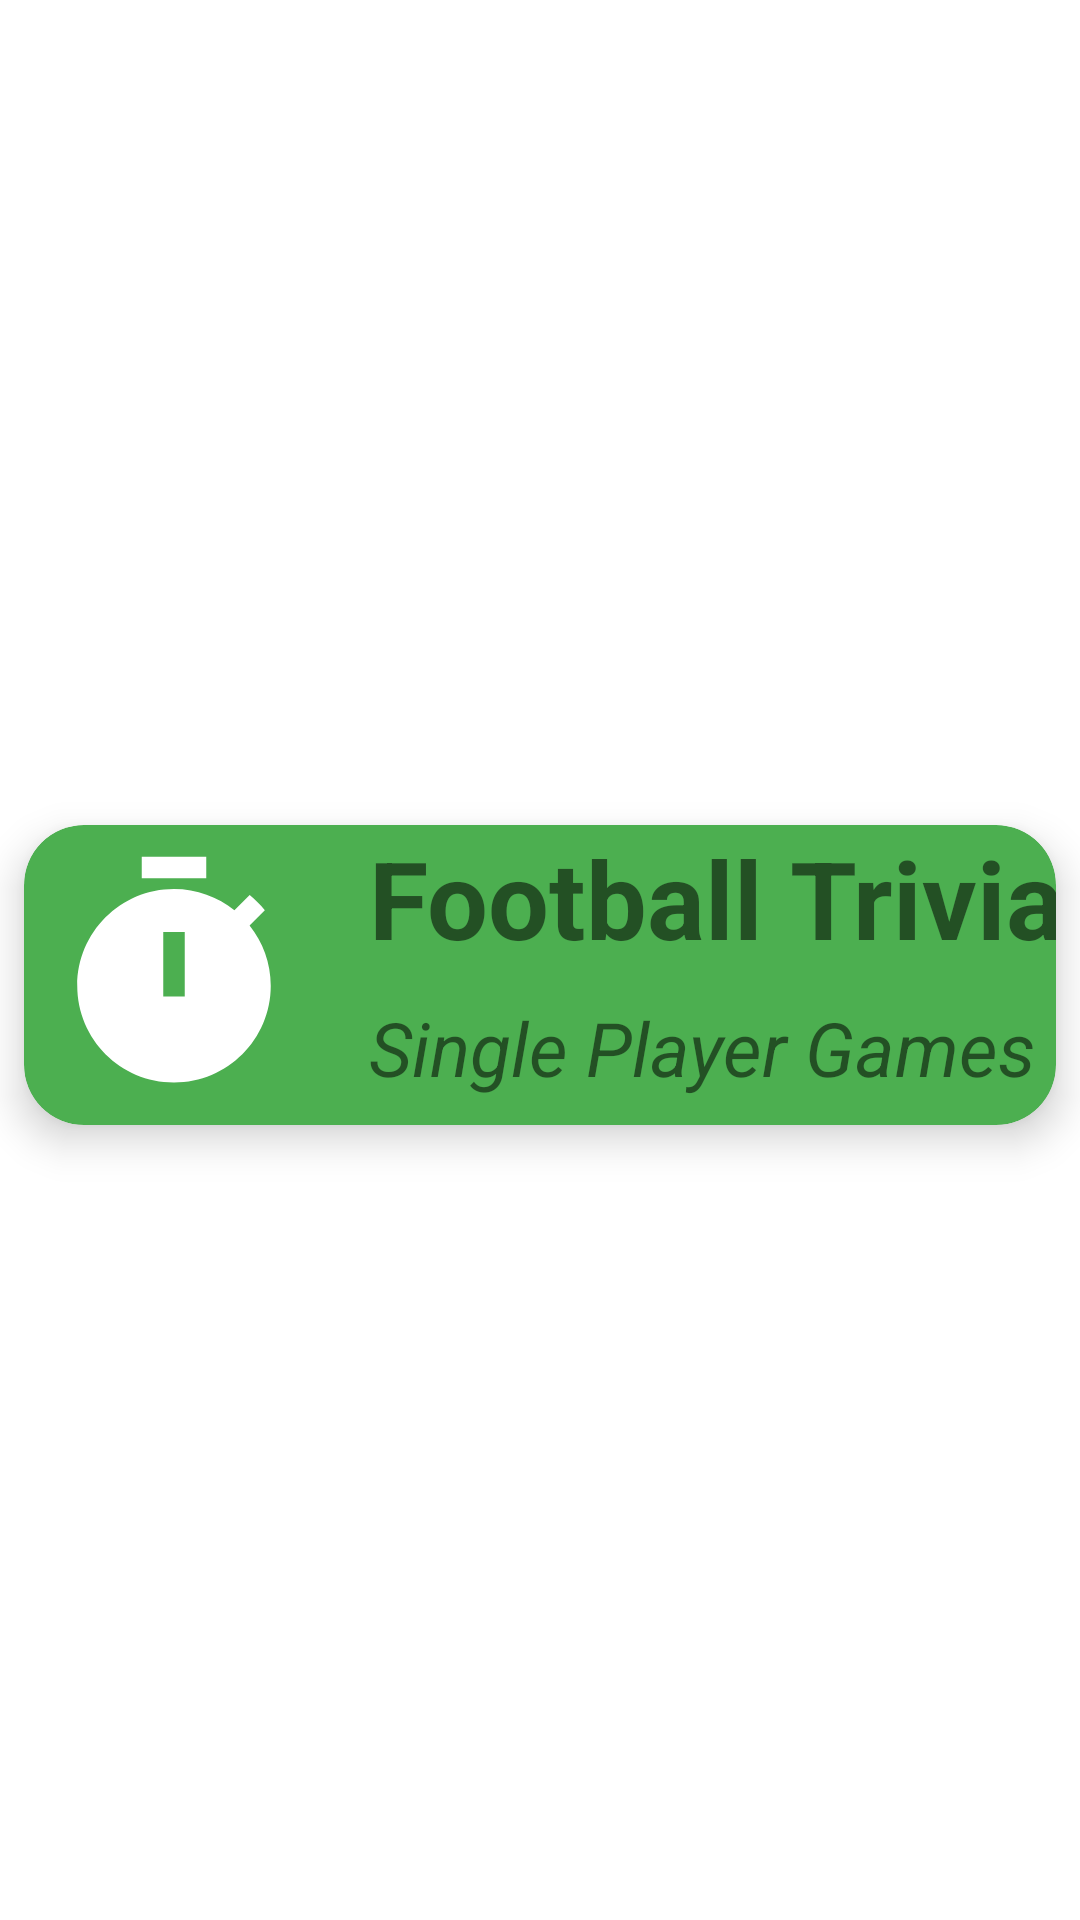

Point at icon controls on the screen. Image size 1080 × 1920, points as (x=x, y=y).
timer: (x=174, y=975)
